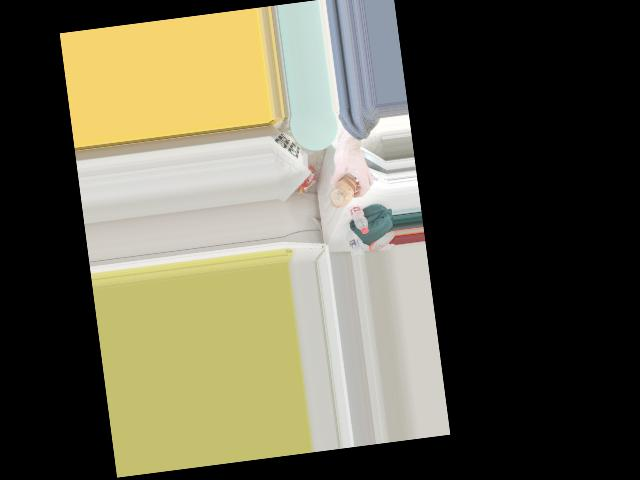sweet_potato: (327, 172, 359, 209)
